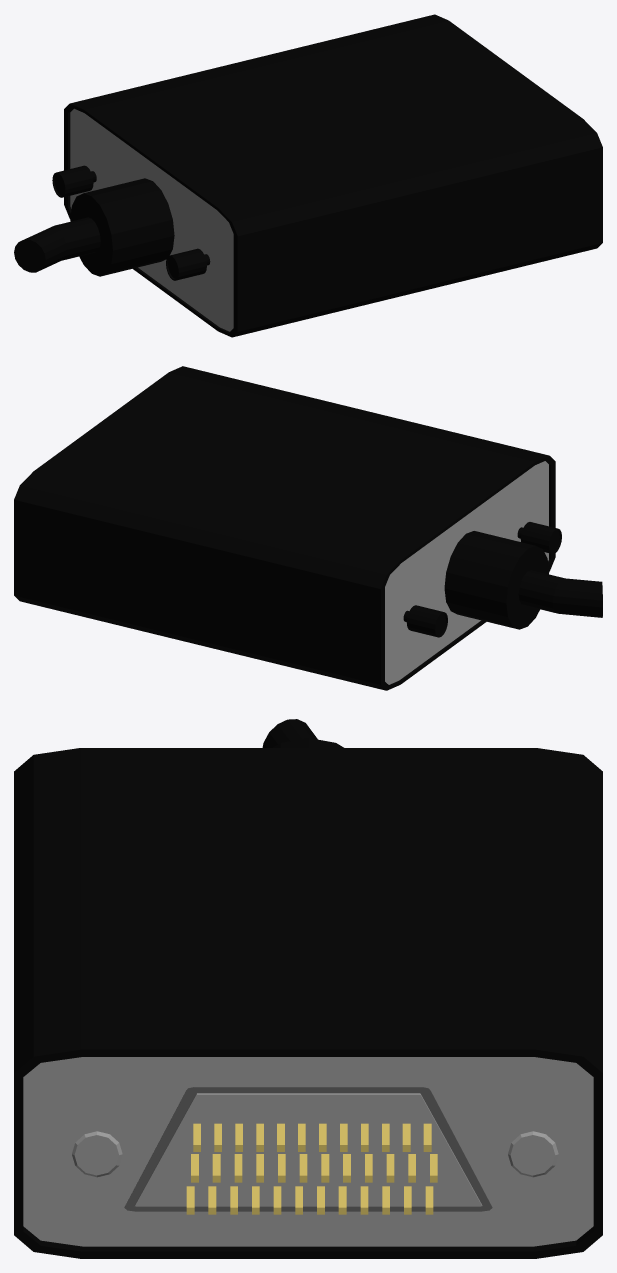
The model's file is Computerstecker.fbx.
3 views of the same model, one above another, from view 1: azimuth 30°, elevation 25°; view 2: azimuth 150°, elevation 25°; view 3: azimuth 270°, elevation 25° (orthographic). The views are drawn at different scales.
Visible parts, largest first — view 1: Computerstecker; view 2: Computerstecker; view 3: Computerstecker.
Boxes of the visible parts, x1,y1,x2,y2 form: Computerstecker: (14, 14, 602, 337); Computerstecker: (14, 366, 602, 690); Computerstecker: (14, 719, 602, 1258).
Bounding box in the file's own units: 345 × 77.97 × 199.
